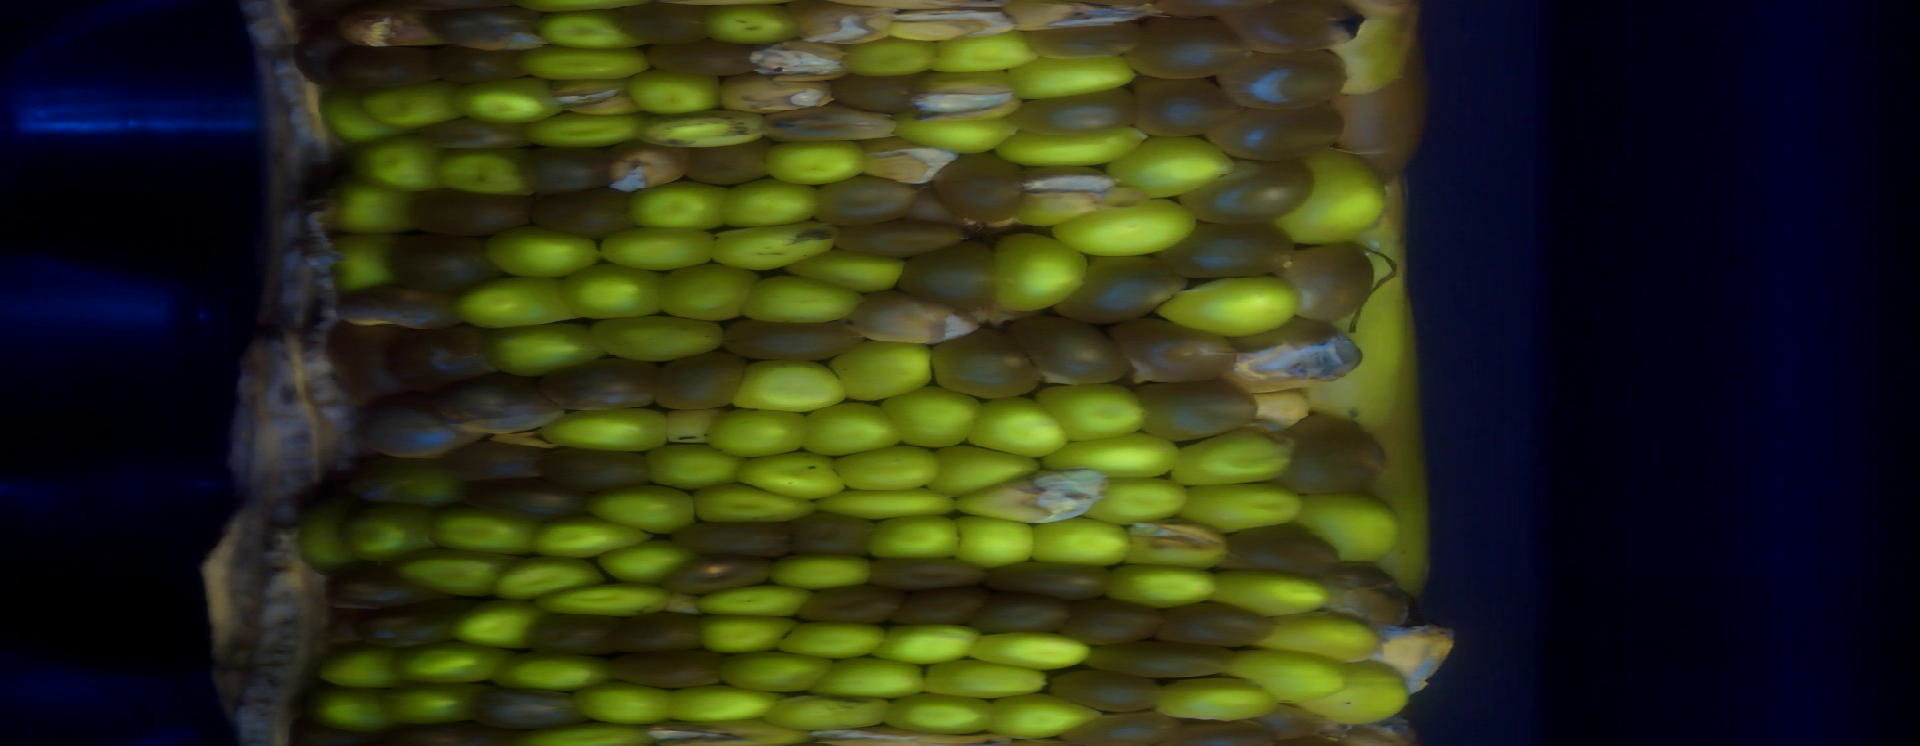fluorescent: (1271, 142, 1391, 252), (948, 463, 1118, 528), (1155, 271, 1300, 341), (1103, 130, 1240, 203), (1051, 194, 1200, 261), (1291, 486, 1407, 570), (989, 224, 1091, 318), (340, 447, 478, 514), (580, 306, 730, 367), (1033, 376, 1156, 448), (1249, 608, 1393, 669), (1168, 424, 1299, 491), (446, 271, 584, 333), (1220, 646, 1352, 710), (1036, 428, 1187, 484), (476, 318, 611, 381), (1007, 160, 1123, 233), (1299, 657, 1418, 726), (726, 354, 853, 419), (915, 439, 1047, 501), (825, 336, 940, 407), (876, 383, 986, 457), (1176, 479, 1314, 537), (988, 122, 1155, 170), (1209, 563, 1336, 626), (702, 219, 842, 276), (960, 392, 1075, 461), (795, 394, 909, 463), (481, 219, 609, 281), (531, 404, 673, 458), (1147, 671, 1286, 726), (649, 258, 765, 323), (736, 271, 869, 327), (905, 65, 1025, 127), (684, 477, 827, 529), (1117, 514, 1236, 577), (489, 548, 607, 610), (980, 688, 1109, 745), (889, 104, 1024, 158), (593, 219, 721, 276), (486, 647, 627, 698), (1002, 50, 1139, 103), (732, 443, 850, 505), (524, 512, 658, 566), (636, 103, 778, 153), (552, 261, 669, 322), (1331, 9, 1406, 103), (356, 76, 478, 134), (313, 85, 418, 151), (806, 650, 933, 704), (583, 479, 699, 538), (332, 501, 435, 567), (1082, 472, 1198, 530), (829, 439, 947, 496), (447, 72, 569, 127), (760, 688, 898, 737), (665, 677, 798, 728), (530, 575, 673, 621), (422, 502, 546, 556), (1101, 559, 1224, 612), (391, 545, 508, 601), (348, 131, 447, 197), (864, 616, 988, 669), (700, 404, 816, 461), (782, 247, 913, 296), (967, 625, 1098, 674), (620, 176, 733, 233), (1022, 516, 1139, 571), (429, 145, 538, 203), (324, 176, 422, 241), (711, 648, 838, 698), (369, 680, 495, 730), (442, 595, 556, 650), (530, 4, 647, 58), (860, 511, 972, 566), (391, 638, 516, 687), (917, 657, 1052, 702), (718, 175, 825, 232), (924, 24, 1040, 77), (288, 499, 362, 579), (758, 134, 872, 186), (514, 43, 656, 85), (573, 677, 691, 728), (523, 108, 649, 154), (809, 484, 964, 522), (691, 610, 804, 661), (944, 511, 1040, 572), (640, 440, 747, 492), (624, 62, 726, 118), (776, 619, 896, 665), (693, 579, 819, 624), (882, 690, 1000, 736), (697, 1, 808, 50), (306, 639, 408, 692), (836, 29, 945, 78), (591, 538, 698, 587), (541, 73, 647, 122), (767, 548, 877, 594), (299, 682, 399, 733), (323, 228, 402, 292), (659, 403, 733, 451)
nonfluorescent: (1331, 38, 1431, 186), (1227, 314, 1374, 398), (996, 309, 1141, 391), (1270, 408, 1392, 501), (1176, 153, 1318, 233), (1098, 314, 1251, 387), (1153, 217, 1311, 287), (1051, 247, 1189, 326), (347, 385, 489, 461), (1213, 45, 1356, 118), (1269, 239, 1382, 328), (320, 317, 422, 410), (1204, 100, 1349, 163), (384, 225, 508, 299), (931, 323, 1044, 403), (430, 369, 572, 432), (841, 285, 983, 349), (1131, 376, 1264, 443), (1120, 18, 1258, 83), (1211, 1, 1369, 58), (1127, 70, 1245, 145), (377, 322, 502, 391), (891, 236, 1000, 315), (536, 353, 667, 418), (1078, 635, 1247, 685), (1210, 519, 1344, 582), (1313, 559, 1420, 635), (1004, 85, 1146, 142), (326, 278, 469, 334), (400, 183, 538, 241), (719, 314, 868, 367), (1146, 595, 1287, 652), (931, 148, 1029, 228), (804, 169, 922, 232), (648, 345, 749, 416), (452, 474, 595, 524), (524, 184, 642, 244), (753, 100, 900, 148), (980, 556, 1122, 605), (662, 514, 801, 565), (317, 557, 440, 614), (419, 9, 552, 60), (539, 440, 658, 497), (658, 549, 782, 601), (1044, 665, 1171, 717), (1051, 597, 1171, 650), (718, 71, 844, 121), (825, 216, 965, 261), (780, 1, 901, 53), (880, 1, 1018, 47), (332, 40, 446, 94), (853, 134, 960, 190), (749, 34, 862, 86), (639, 34, 763, 81), (676, 134, 780, 189), (1020, 18, 1150, 62), (962, 590, 1079, 639), (354, 600, 467, 650), (866, 552, 993, 597), (887, 581, 991, 635), (605, 646, 729, 691), (606, 1, 718, 51), (604, 608, 709, 660), (429, 37, 533, 89), (599, 138, 693, 196), (522, 608, 624, 660), (438, 437, 551, 485), (793, 581, 906, 628), (512, 142, 609, 197), (786, 506, 882, 561), (409, 113, 531, 156), (827, 70, 936, 118), (996, 1, 1158, 33), (1046, 708, 1180, 746), (287, 20, 353, 91), (1239, 383, 1318, 437), (893, 180, 969, 234), (1162, 717, 1286, 746), (1249, 706, 1340, 745), (313, 608, 369, 647)
